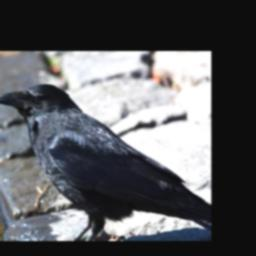Crow: (0, 82, 209, 241)
